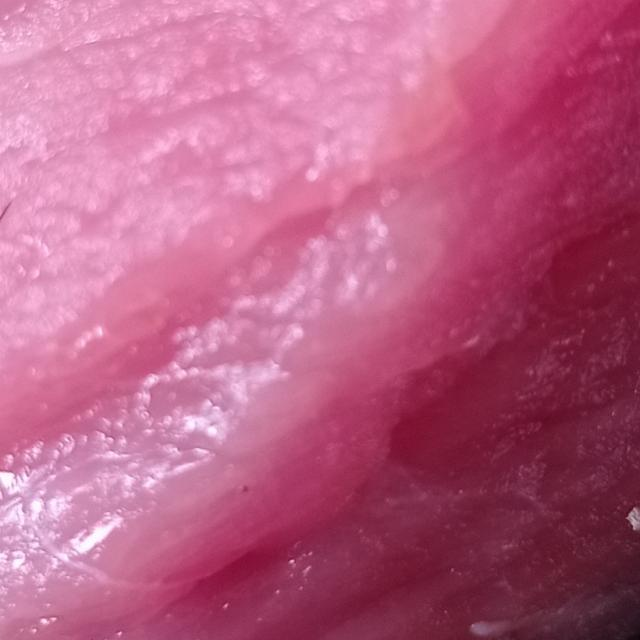pork: (2, 5, 640, 640)
